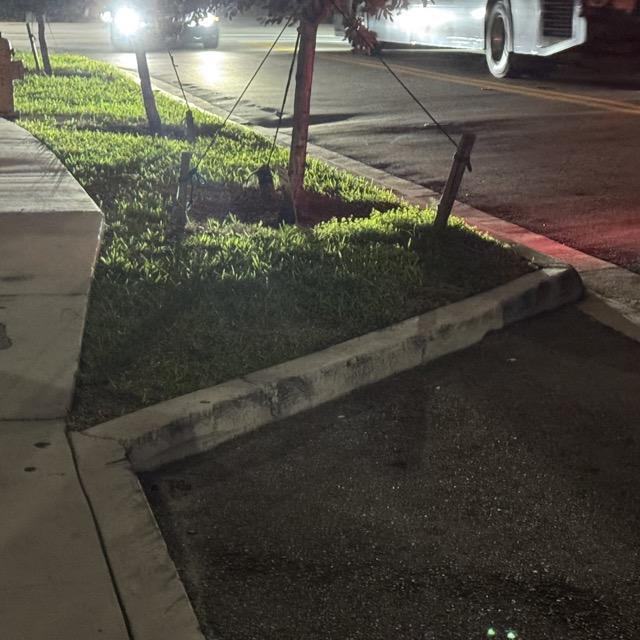curb: (84, 243, 584, 471), (71, 433, 204, 639), (400, 64, 640, 116)
